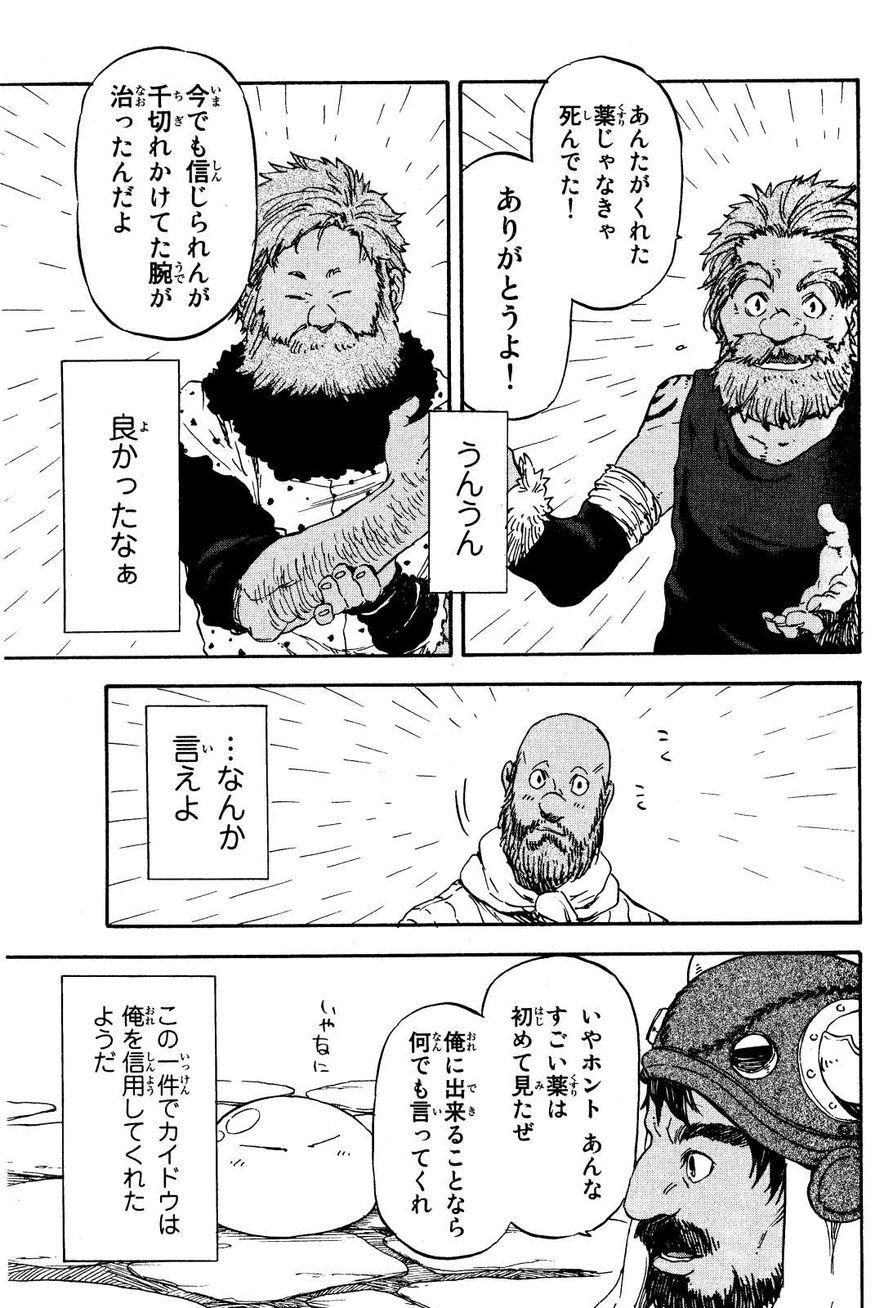bubbles: (456, 53, 691, 421), (366, 955, 643, 1263), (69, 41, 265, 350), (56, 970, 223, 1267), (55, 357, 186, 634), (142, 702, 272, 886), (424, 406, 511, 598)
